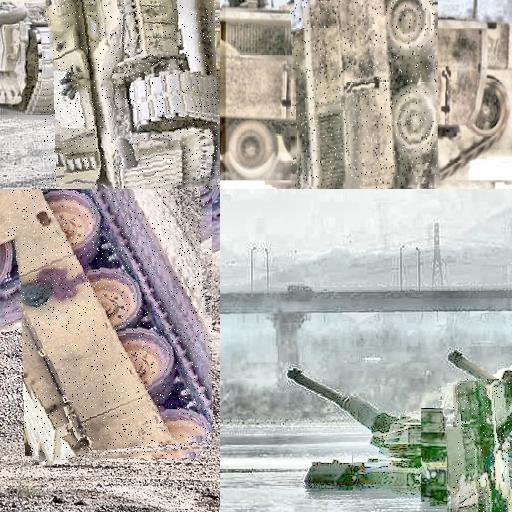tanks: (9, 190, 213, 464), (48, 1, 220, 190), (292, 1, 438, 189), (455, 381, 512, 512)
